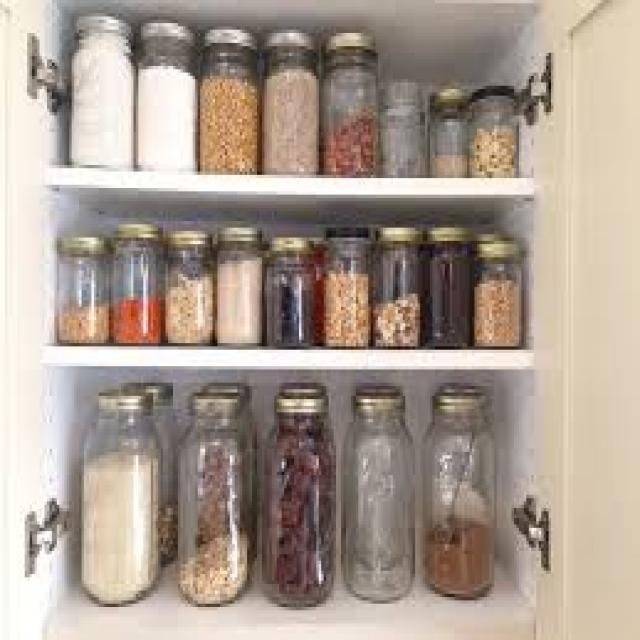organic waste: (79, 446, 153, 588), (272, 419, 328, 594), (72, 30, 134, 158), (262, 66, 319, 168), (138, 59, 193, 162), (200, 70, 255, 168), (178, 528, 245, 594), (430, 515, 487, 584), (264, 267, 312, 337), (321, 267, 366, 337), (474, 271, 516, 343), (220, 258, 259, 334), (326, 106, 373, 168), (171, 264, 210, 333), (469, 122, 516, 168), (376, 287, 415, 340), (198, 442, 224, 518), (57, 300, 106, 340), (114, 297, 158, 333), (428, 307, 467, 343), (158, 501, 173, 551), (433, 148, 462, 172)
